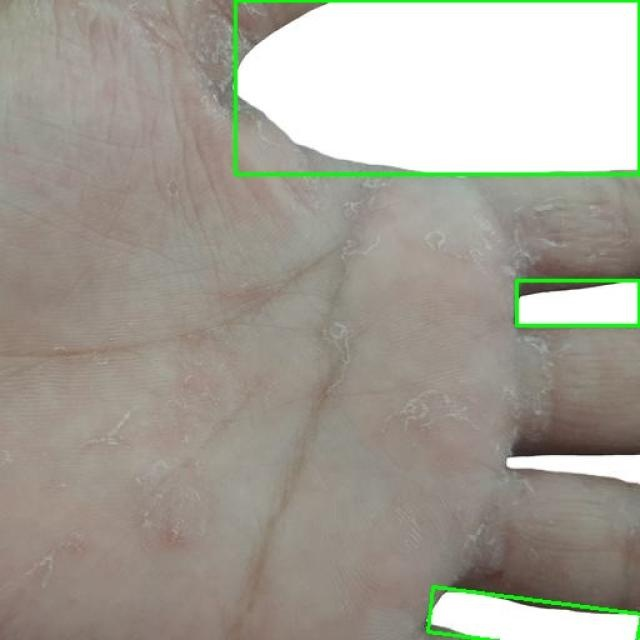Scabies: (235, 0, 639, 174), (428, 587, 640, 640), (516, 280, 639, 325)
